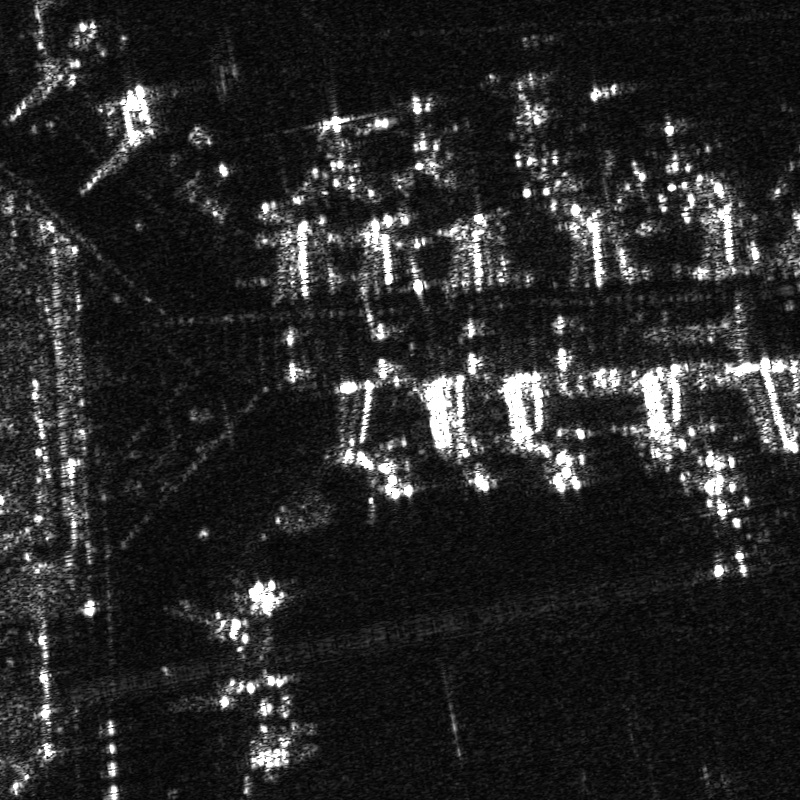A220: (285, 106, 383, 202)
A320/321: (663, 465, 780, 580), (490, 66, 592, 175), (626, 115, 717, 197)
other: (385, 89, 481, 188)
